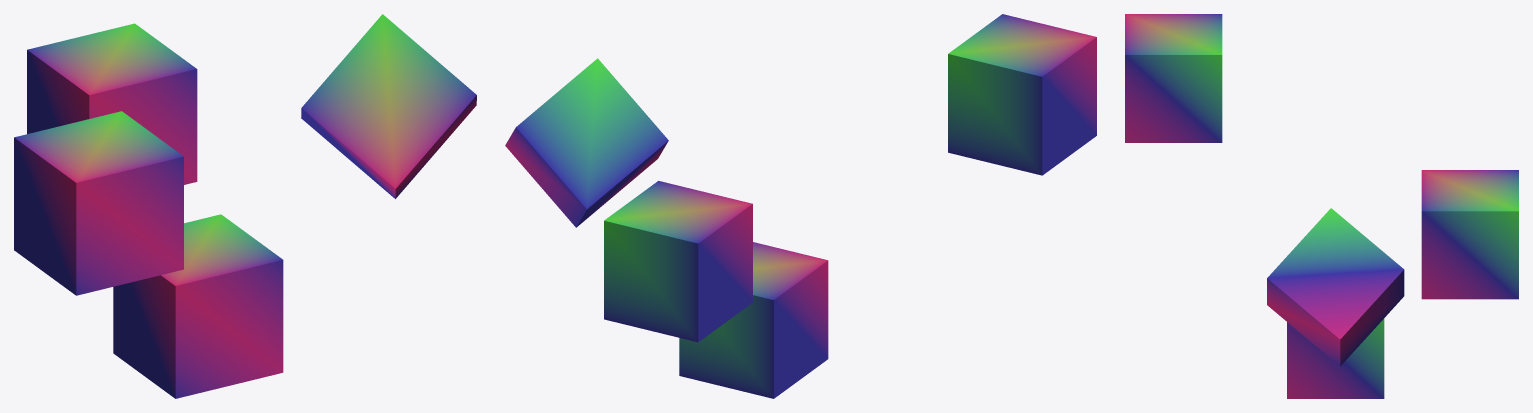
Rendered from ExampleBoxes.glb.
3 views of the same model, side by side, from view 1: azimuth 30°, elevation 25°; view 2: azimuth 150°, elevation 25°; view 3: azimuth 270°, elevation 25° (orthographic). The views are drawn at different scales.
Parts seen in each view (by area): view 1: Cube.003, Cube.001, Cube.004, Cube.002; view 2: Cube.002, Cube.003, Cube.004, Cube.001; view 3: Cube.004, Cube.002, Cube.003, Cube.001.
Boxes of the visible parts, x1=… form: Cube.003: x1=14, y1=111, x2=183, y2=295; Cube.001: x1=113, y1=214, x2=283, y2=398; Cube.004: x1=301, y1=14, x2=476, y2=198; Cube.002: x1=27, y1=23, x2=197, y2=184; Cube.002: x1=604, y1=181, x2=752, y2=342; Cube.003: x1=948, y1=14, x2=1096, y2=175; Cube.004: x1=505, y1=58, x2=668, y2=227; Cube.001: x1=679, y1=242, x2=828, y2=398; Cube.004: x1=1267, y1=208, x2=1404, y2=366; Cube.002: x1=1421, y1=170, x2=1518, y2=299; Cube.003: x1=1125, y1=14, x2=1222, y2=142; Cube.001: x1=1287, y1=318, x2=1384, y2=398.
Bounding box in the file's own units: 9.98 × 6.05 × 8.1.
